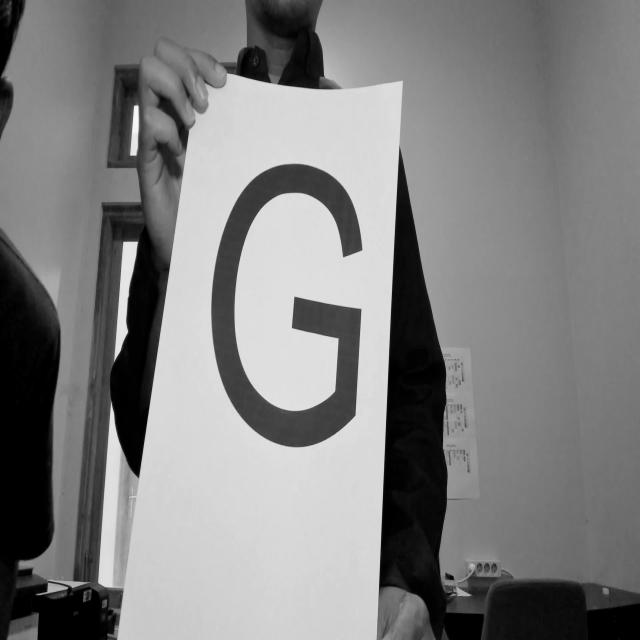g: (200, 145, 380, 456)
